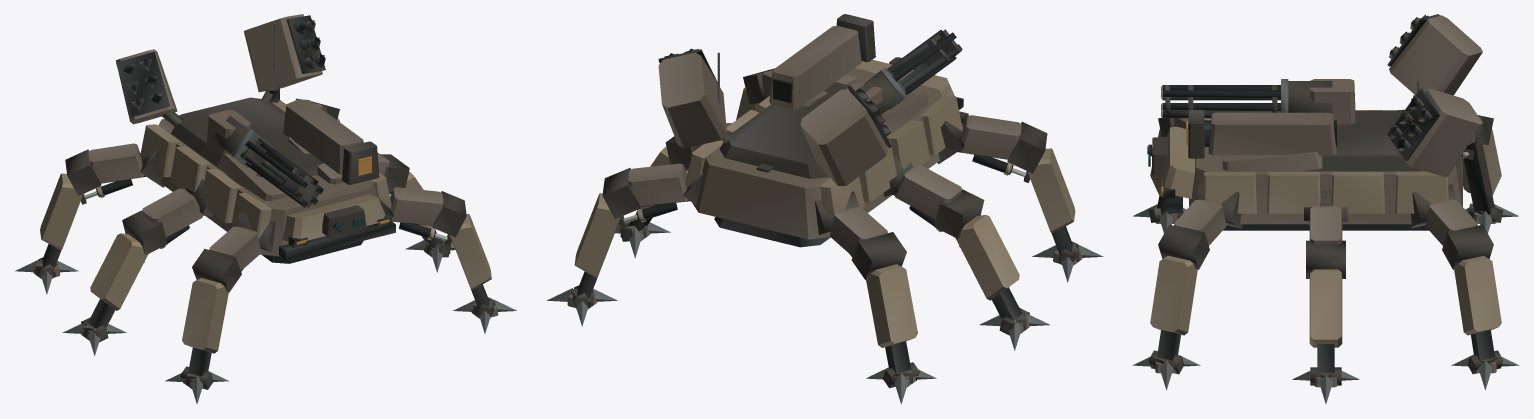
The picture shows the model from 3 angles, left to right: view 1: azimuth 30°, elevation 25°; view 2: azimuth 150°, elevation 25°; view 3: azimuth 270°, elevation 25°; orthographic projection. The views are drawn at different scales.
Parts seen in each view (by area): view 1: MX06_STATIC; view 2: MX06_STATIC; view 3: MX06_STATIC.
Part boxes in pixels (left/top/right/bottom): MX06_STATIC: left=15, top=14, right=516, bottom=404; MX06_STATIC: left=547, top=14, right=1103, bottom=404; MX06_STATIC: left=1132, top=14, right=1519, bottom=403.
Size of the model in its own units: 6.74 by 3.81 by 5.45.
